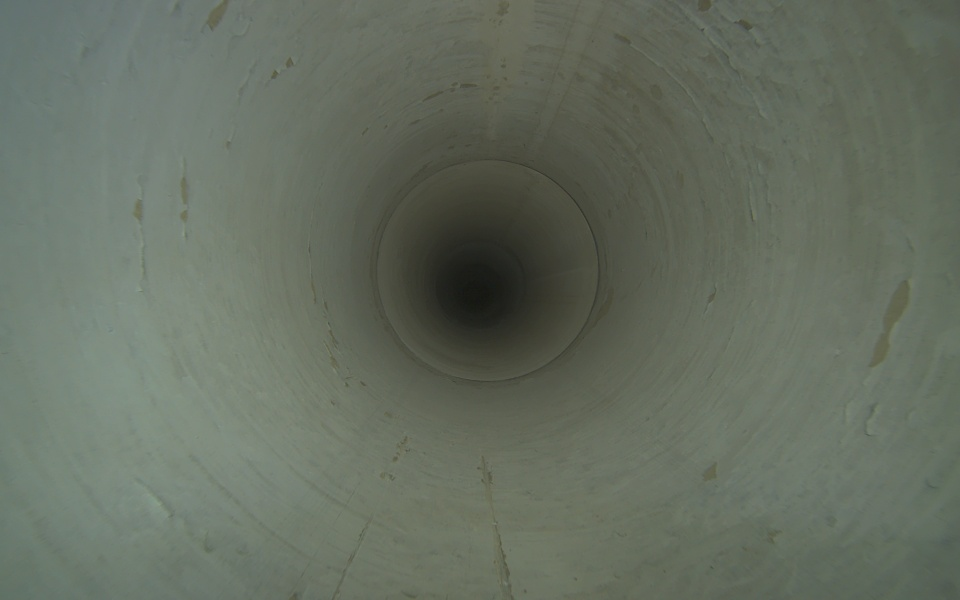circle1: (372, 156, 604, 387)
circle2: (461, 279, 491, 312)
